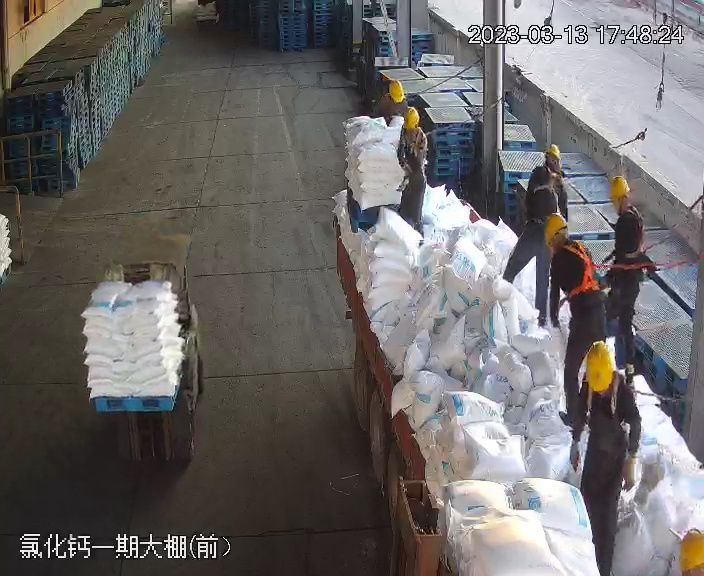belt: (559, 241, 608, 294), (586, 370, 632, 415), (617, 210, 651, 260), (533, 162, 566, 194), (406, 129, 429, 155)
head: (576, 343, 638, 412), (543, 214, 596, 271), (606, 175, 646, 234), (385, 99, 426, 138), (528, 144, 565, 186), (372, 78, 409, 114), (399, 107, 431, 143)
helmet: (584, 339, 615, 394), (678, 528, 703, 571), (543, 214, 569, 248), (608, 175, 631, 203), (387, 78, 407, 103), (401, 107, 421, 130), (543, 143, 561, 160)
people: (544, 216, 617, 449), (572, 342, 643, 573), (593, 176, 650, 379), (505, 143, 569, 288), (395, 107, 434, 238)
truck: (333, 139, 701, 575)
